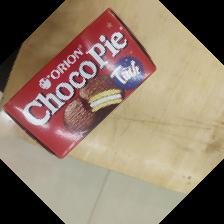Chocopie: (1, 8, 158, 162)
